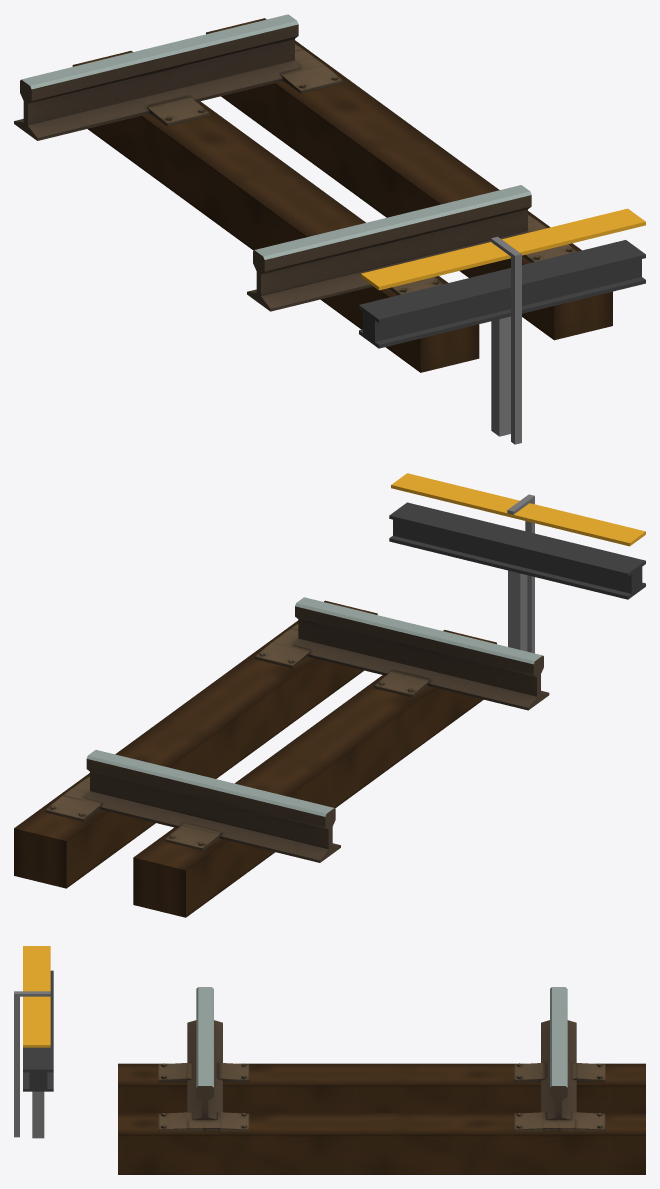
File: spsf_3rdrail_left.obj
The picture shows the model from 3 angles, top to bottom: view 1: azimuth 30°, elevation 25°; view 2: azimuth 150°, elevation 25°; view 3: azimuth 270°, elevation 25°; orthographic projection. The views are drawn at different scales.
Visible parts, largest first — view 1: RAIL_BASE.006_RAIL_BASE.004, RAIL_BASE.003_RAIL_BASE.006, RAIL_RIGHT_Cube.010, RAIL_LEFT_Cube.002, RAIL_BASE.002_RAIL_BASE.007, RAIL_BASE.004_RAIL_BASE.008, RAIL_BASE.005_Cube.003; view 2: RAIL_BASE.003_RAIL_BASE.006, RAIL_BASE.006_RAIL_BASE.004, RAIL_RIGHT_Cube.010, RAIL_LEFT_Cube.002, RAIL_BASE.002_RAIL_BASE.007, RAIL_BASE.004_RAIL_BASE.008, RAIL_BASE.005_Cube.003; view 3: RAIL_BASE.003_RAIL_BASE.006, RAIL_BASE.004_RAIL_BASE.008, RAIL_BASE.002_RAIL_BASE.007, RAIL_BASE.006_RAIL_BASE.004, RAIL_BASE.005_Cube.003, RAIL_RIGHT_Cube.010, RAIL_LEFT_Cube.002.
Part boxes in pixels (x1,y1,x2,y2): RAIL_BASE.006_RAIL_BASE.004: (359, 208, 645, 444); RAIL_BASE.003_RAIL_BASE.006: (72, 32, 554, 372); RAIL_RIGHT_Cube.010: (14, 14, 300, 140); RAIL_LEFT_Cube.002: (247, 185, 531, 311); RAIL_BASE.002_RAIL_BASE.007: (206, 18, 612, 340); RAIL_BASE.004_RAIL_BASE.008: (73, 51, 479, 372); RAIL_BASE.005_Cube.003: (147, 44, 576, 295); RAIL_BASE.003_RAIL_BASE.006: (66, 613, 496, 917); RAIL_BASE.006_RAIL_BASE.004: (389, 473, 645, 653); RAIL_RIGHT_Cube.010: (84, 750, 340, 862); RAIL_LEFT_Cube.002: (293, 597, 549, 710); RAIL_BASE.002_RAIL_BASE.007: (14, 600, 377, 888); RAIL_BASE.004_RAIL_BASE.008: (133, 630, 496, 917); RAIL_BASE.005_Cube.003: (45, 624, 430, 850); RAIL_BASE.003_RAIL_BASE.006: (118, 1085, 645, 1174); RAIL_BASE.004_RAIL_BASE.008: (118, 1063, 645, 1085); RAIL_BASE.002_RAIL_BASE.007: (118, 1113, 645, 1134); RAIL_BASE.006_RAIL_BASE.004: (14, 946, 53, 1138); RAIL_BASE.005_Cube.003: (158, 1063, 605, 1131); RAIL_RIGHT_Cube.010: (541, 987, 576, 1119); RAIL_LEFT_Cube.002: (187, 987, 222, 1119).
Bounding box in the file's own units: 1.11 × 0.6752 × 2.7.
Materials: 2 (2 with a texture image).
